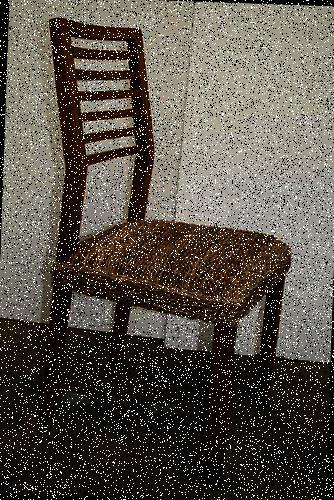Silla: (27, 16, 294, 485)
